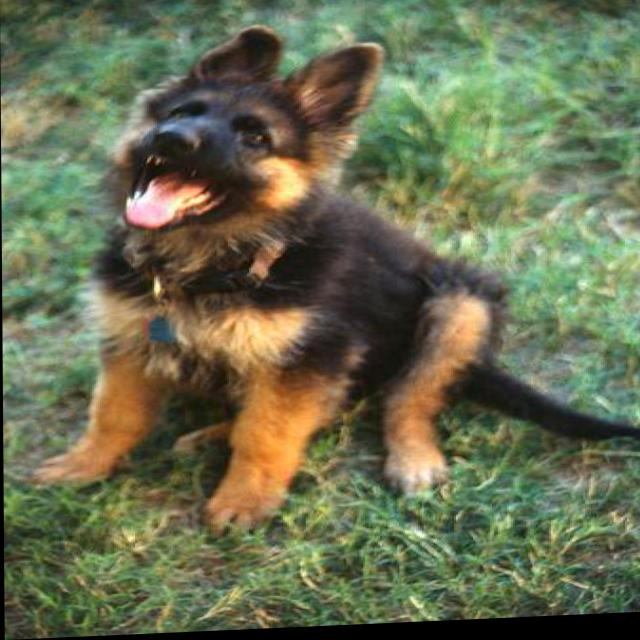sheperd: (55, 18, 534, 530)
